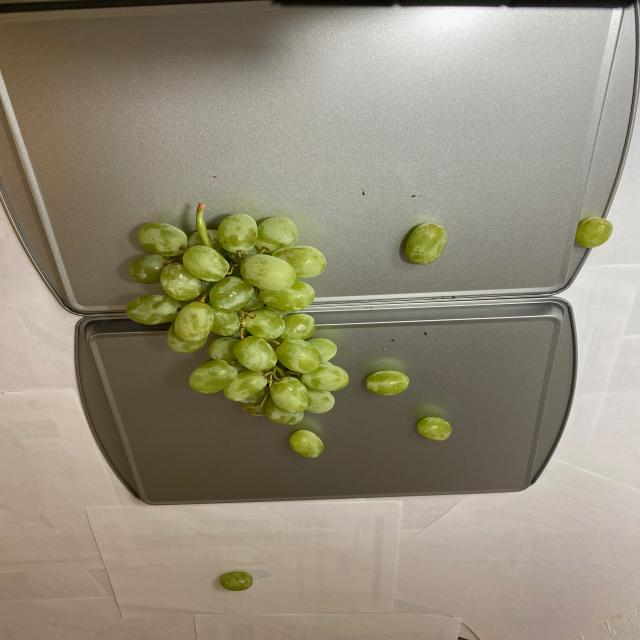grapes: (123, 201, 454, 461), (571, 212, 615, 252), (218, 567, 253, 594)
